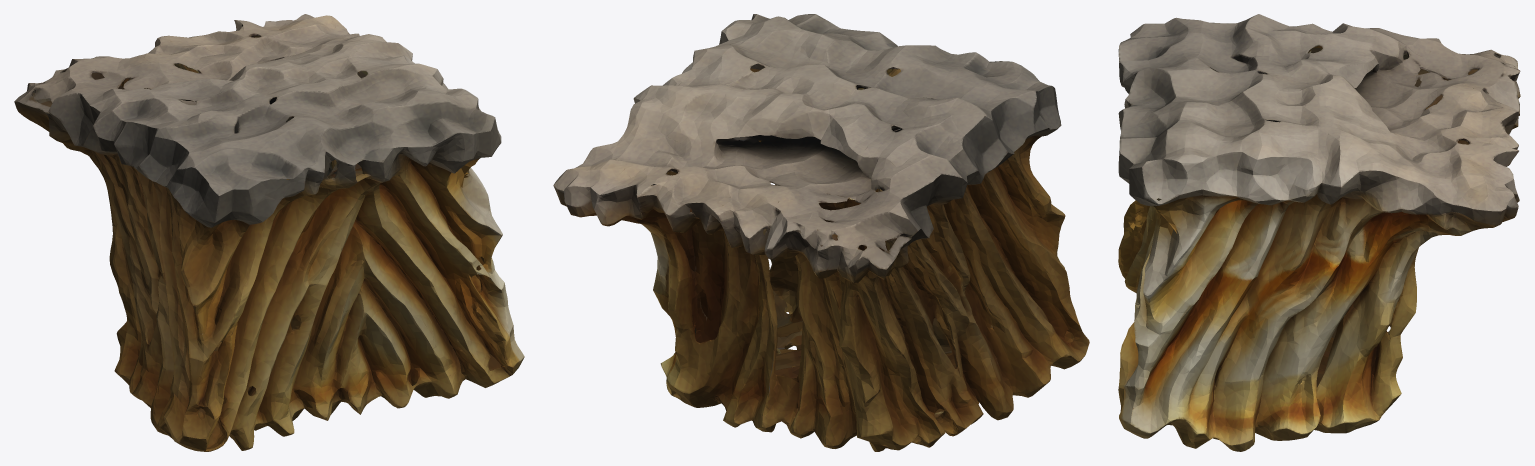
The picture shows the model from 3 angles, left to right: view 1: azimuth 30°, elevation 25°; view 2: azimuth 150°, elevation 25°; view 3: azimuth 270°, elevation 25°; orthographic projection. The views are drawn at different scales.
Parts seen in each view (by area): view 1: world; view 2: world; view 3: world.
Boxes of the visible parts, bbox=[...] form: world: bbox=[14, 14, 524, 451]; world: bbox=[553, 14, 1089, 451]; world: bbox=[1118, 14, 1520, 451].
Size of the model in its own units: 0.9985 by 0.8422 by 1.
1 material, 1 textured.
